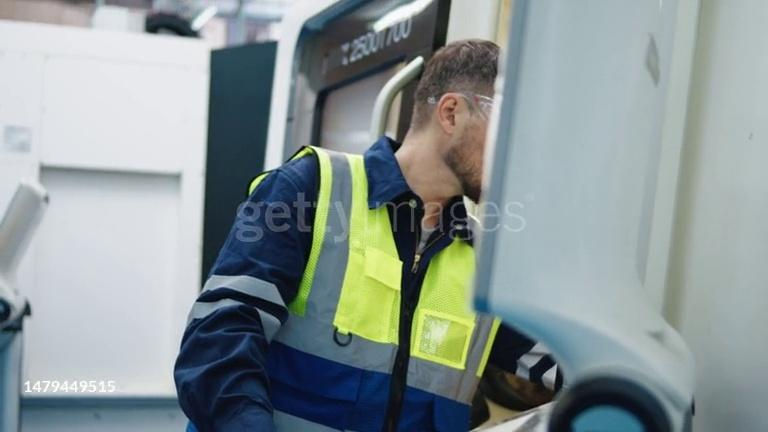person: (174, 40, 565, 432)
